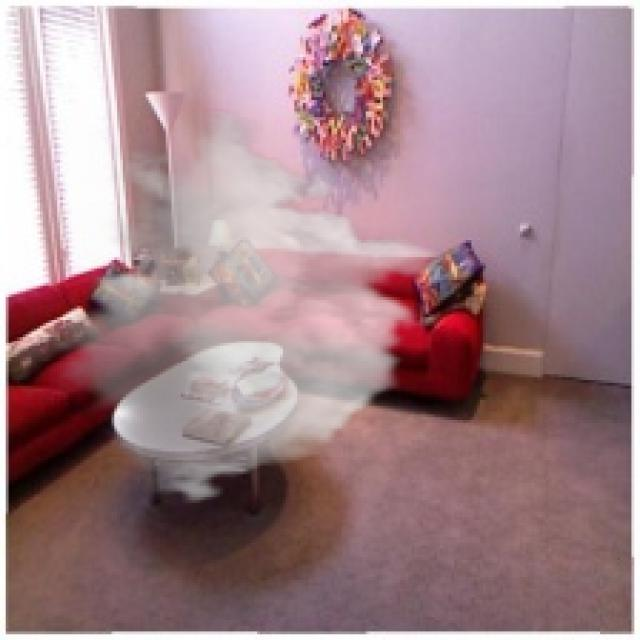smoke: (48, 108, 446, 506)
